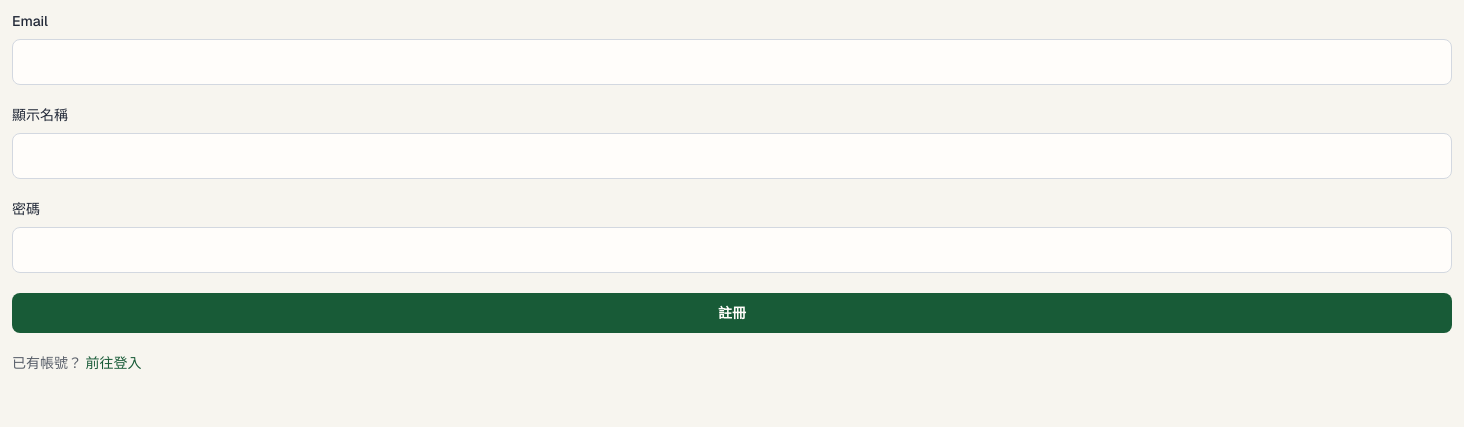
Test: RegisterForm › MSW 回 VALIDATION_ERROR 時顯示格式錯誤提示
Type "bad@example.com" into the field labelled "Email".
click(732, 62); type("bad@example.com")  # box [12,39,1452,85]
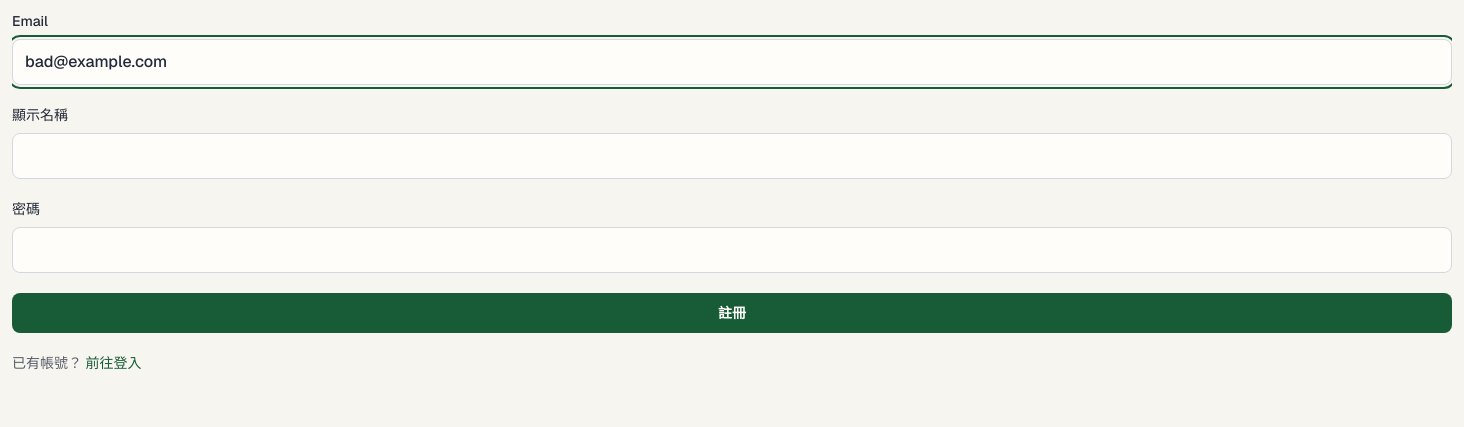
Type "test" into the field labelled "顯示名稱".
click(732, 156); type("test")  # box [12,133,1452,179]
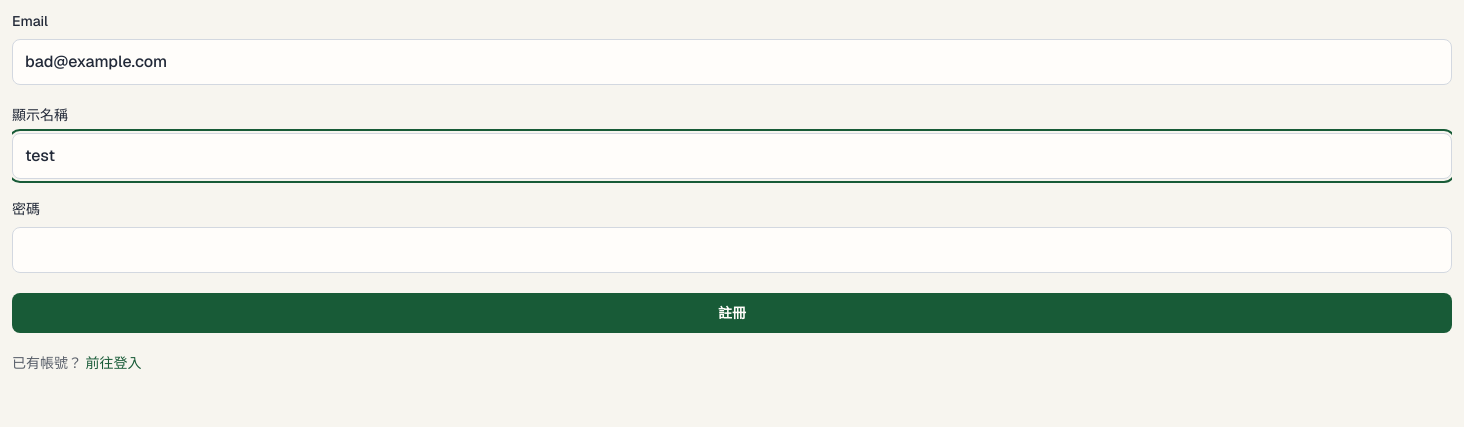
Type "password123" into the password field labelled "密碼".
click(732, 250); type("password123")  # box [12,227,1452,273]
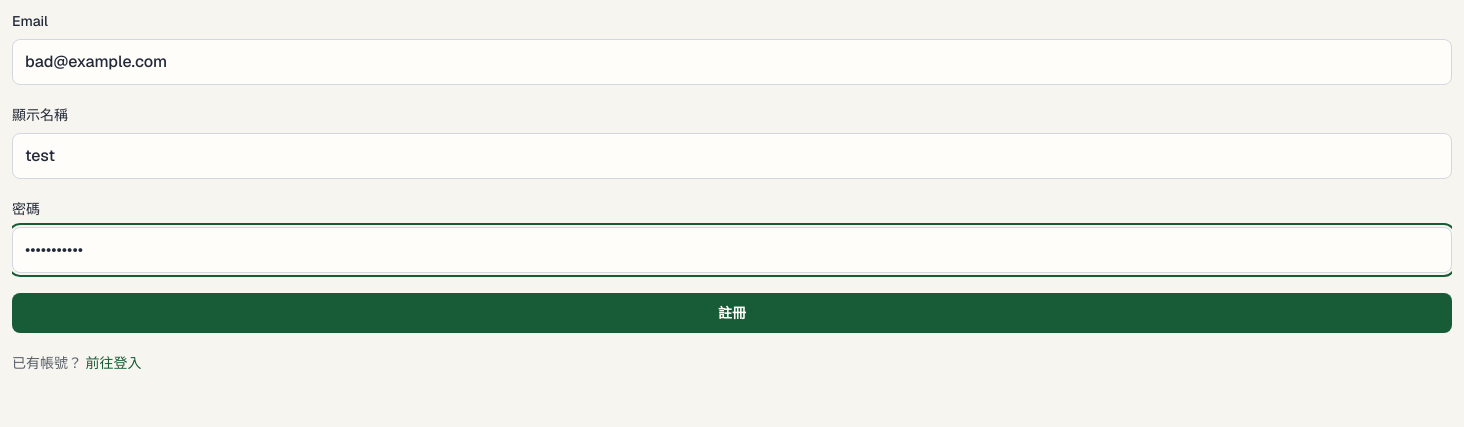
Click the button "註冊".
click(732, 313)  # box [12,293,1452,333]
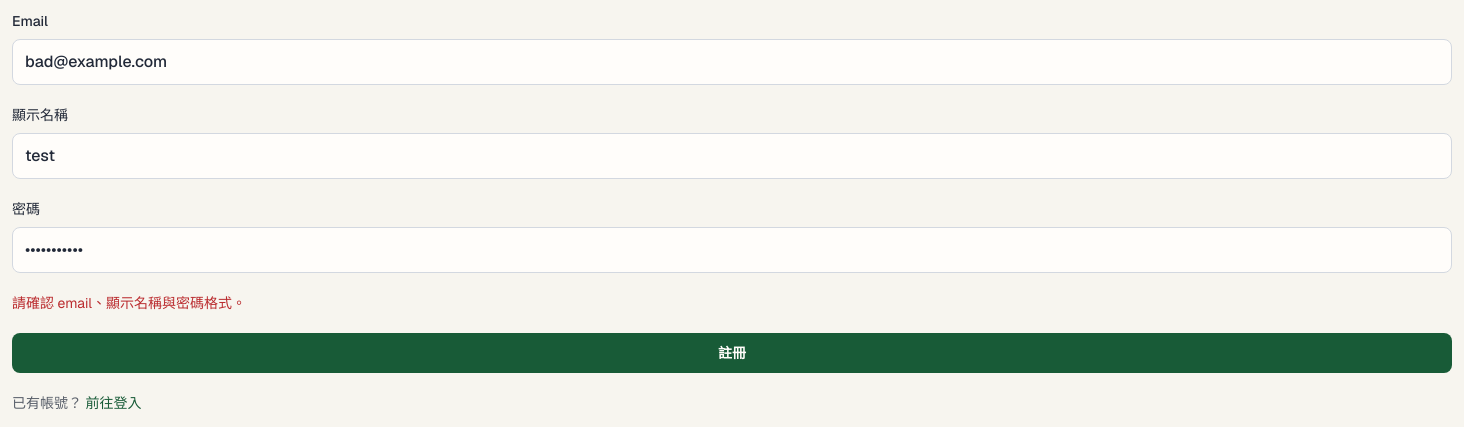
Expected: the text "請確認 email、顯示名稱與密碼格式。" is shown, [12,294,246,312]
